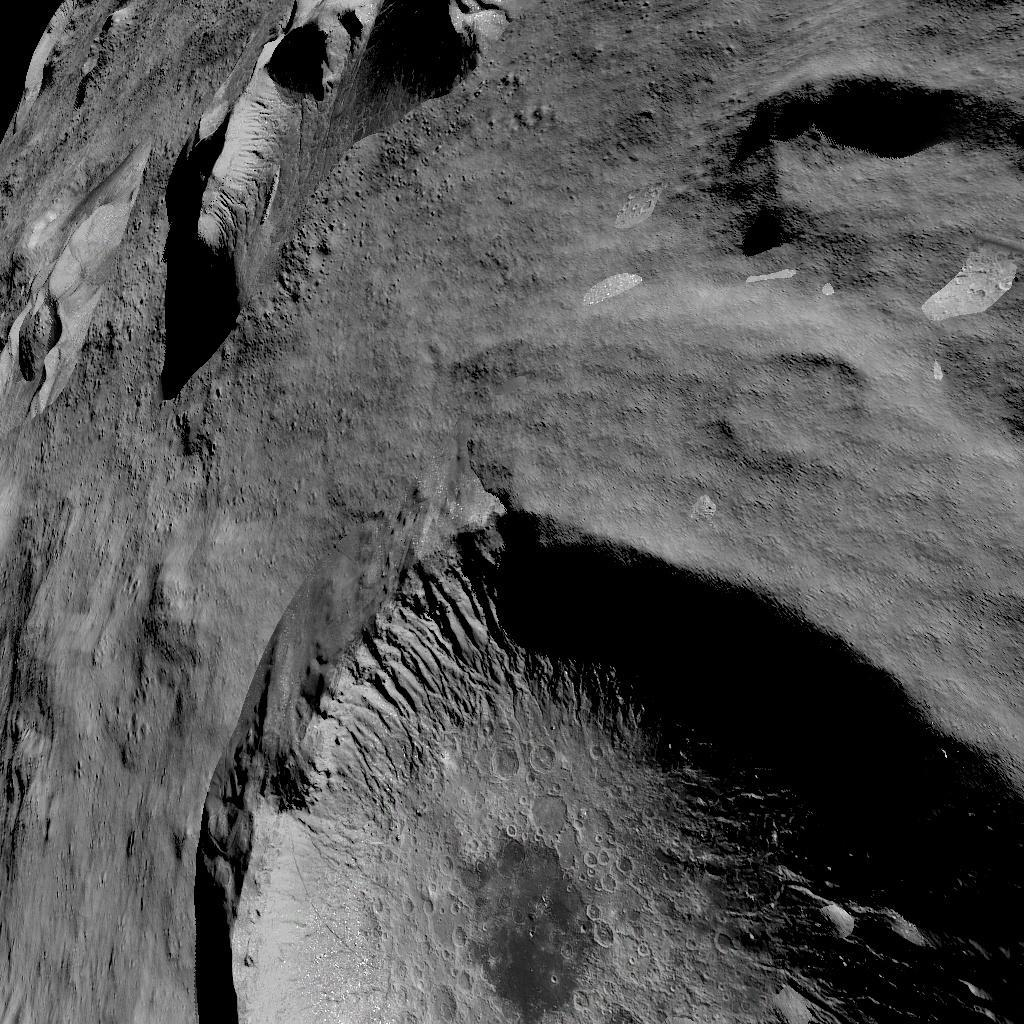Boulders: (165, 0, 592, 395), (0, 146, 141, 408)
Crater: (191, 500, 1024, 1024), (731, 66, 1024, 266), (713, 338, 874, 480)
